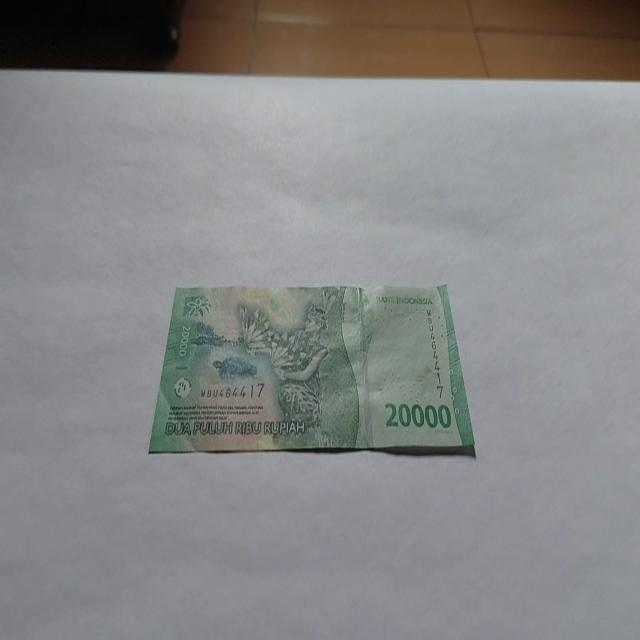dua puluh ribu rupiah: (148, 280, 476, 459)
